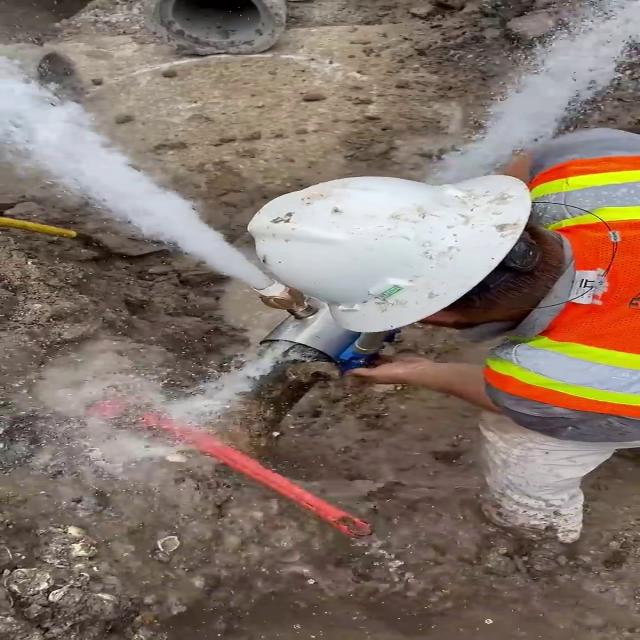leak: (0, 51, 288, 291), (414, 0, 640, 188)
